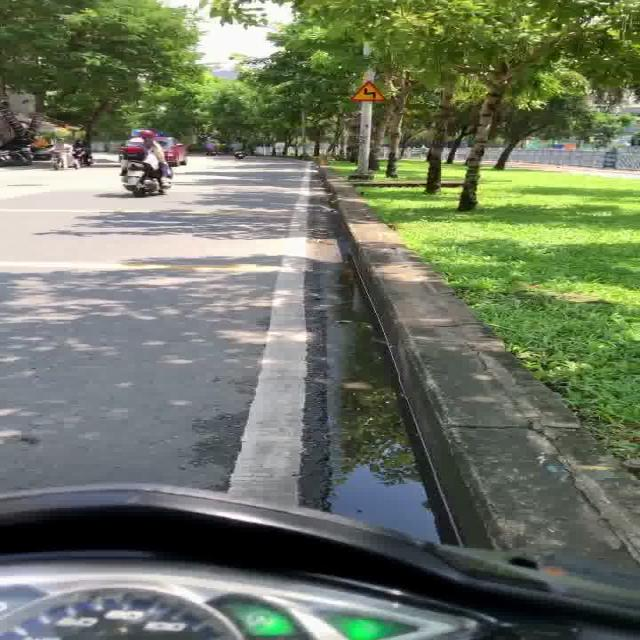Bien bao nhieu cho ngoat nguy hiem lien tiep: (345, 77, 389, 104)
